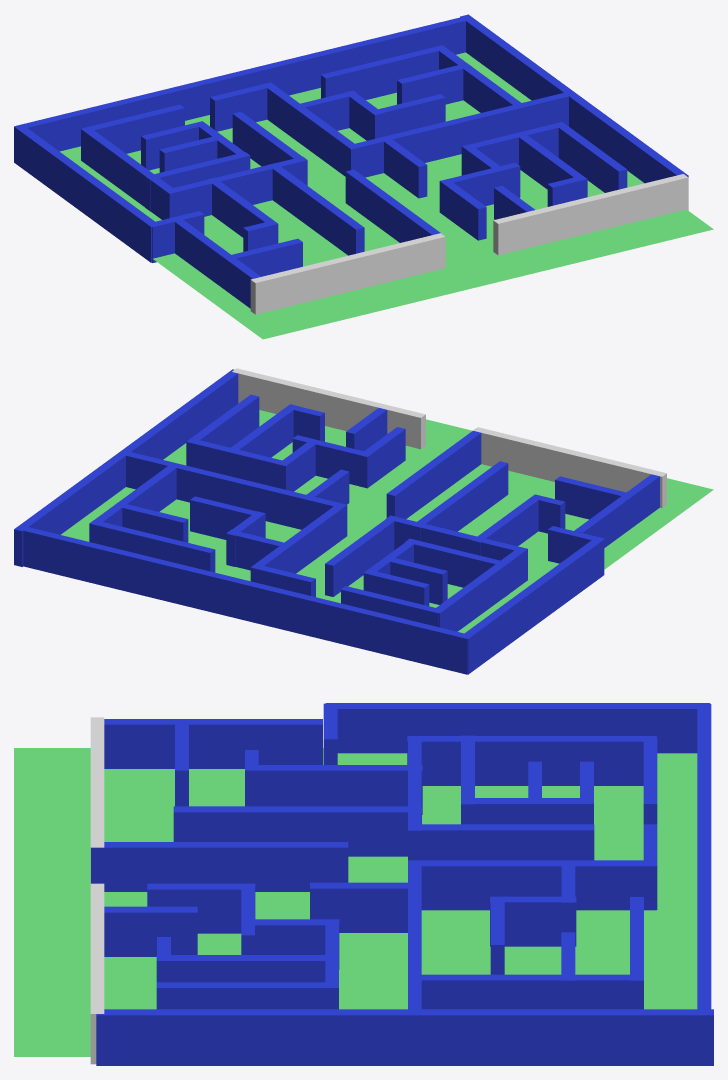
File: ARENANEW.fbx
3 renders of one model, top to bottom at view 1: azimuth 30°, elevation 25°; view 2: azimuth 150°, elevation 25°; view 3: azimuth 270°, elevation 25°, orthographic. The views are drawn at different scales.
Parts seen in each view (by area): view 1: SIENOS, ARENA; view 2: SIENOS, ARENA; view 3: SIENOS, ARENA.
Boxes of the visible parts, x1=… form: SIENOS: x1=14, y1=14, x2=688, y2=308; ARENA: x1=60, y1=52, x2=713, y2=339; SIENOS: x1=14, y1=369, x2=659, y2=674; ARENA: x1=61, y1=368, x2=713, y2=633; SIENOS: x1=91, y1=703, x2=713, y2=1065; ARENA: x1=14, y1=717, x2=697, y2=1064.
Bounding box in the file's own units: 10661 × 805 × 10102.
